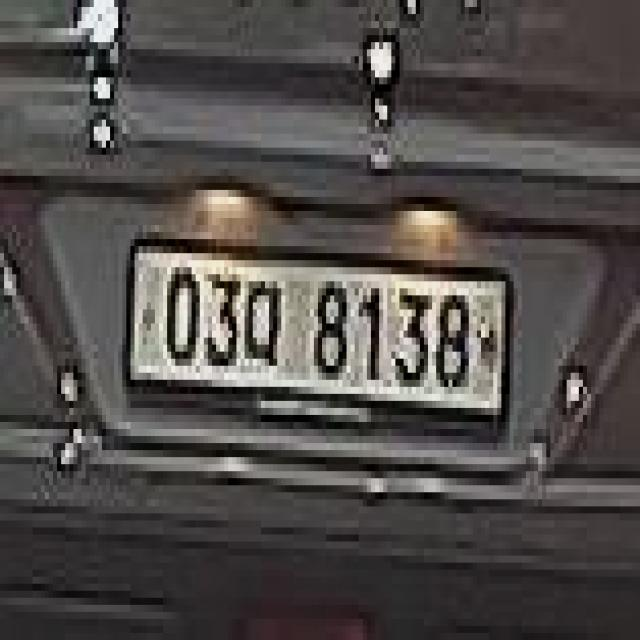illegal_plate: (125, 234, 514, 449)
